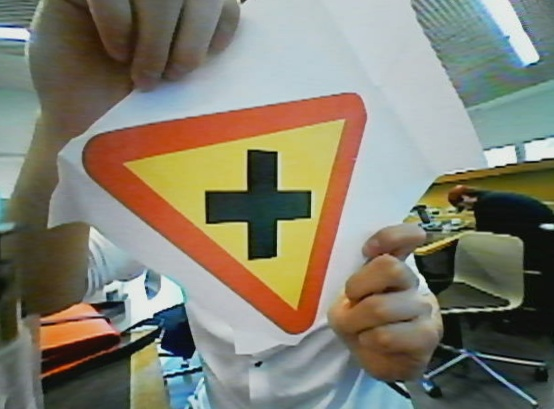junction: (63, 90, 369, 338)
